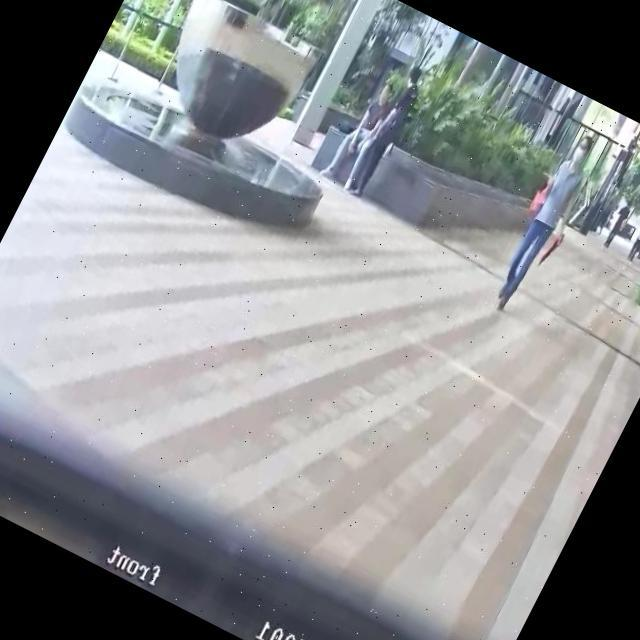person: (480, 126, 610, 322), (320, 72, 402, 192), (345, 76, 423, 202), (328, 76, 402, 192), (600, 198, 636, 252), (592, 199, 616, 236), (625, 211, 640, 264), (635, 223, 640, 261)
